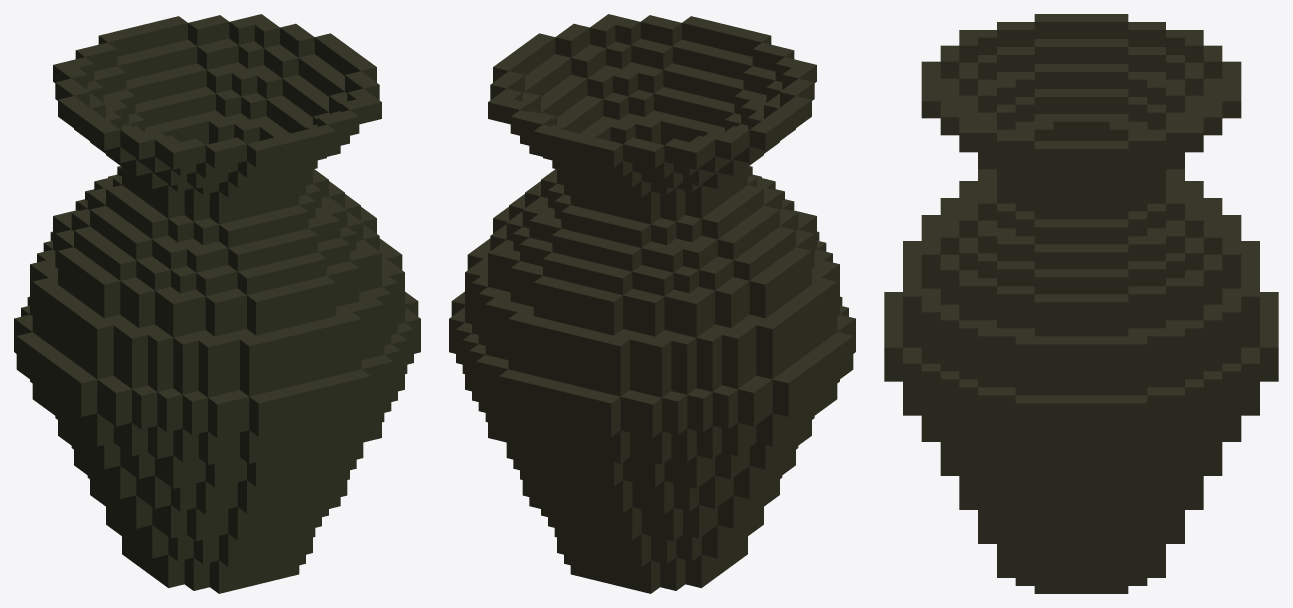
The model's file is Vase 1.obj.
The picture shows the model from 3 angles, left to right: view 1: azimuth 30°, elevation 25°; view 2: azimuth 150°, elevation 25°; view 3: azimuth 270°, elevation 25°; orthographic projection.
Parts seen in each view (by area): view 1: Vase 1; view 2: Vase 1; view 3: Vase 1.
Boxes of the visible parts, x1=… form: Vase 1: x1=14, y1=14, x2=420, y2=593; Vase 1: x1=449, y1=14, x2=855, y2=593; Vase 1: x1=884, y1=14, x2=1278, y2=593.
Bounding box in the file's own units: 21 × 28 × 21.
1 material, 1 textured.
